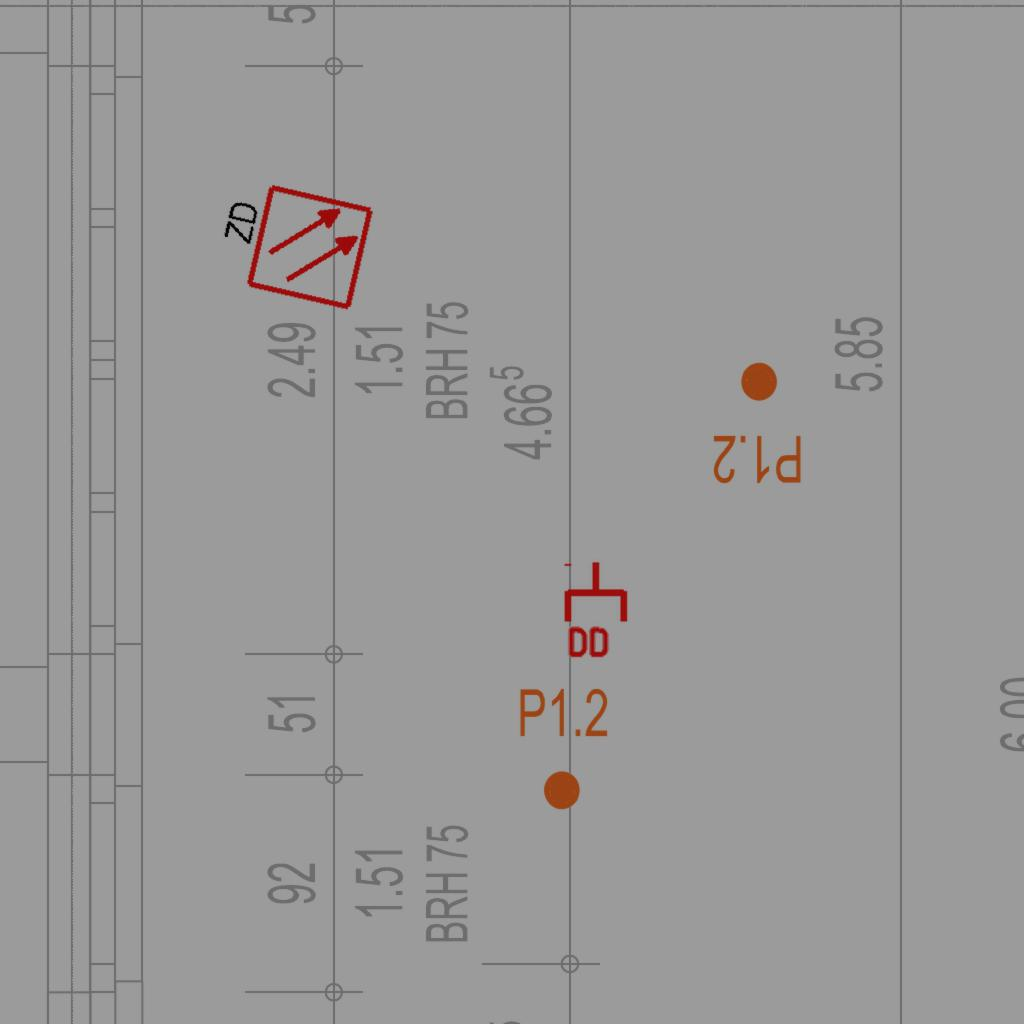Datenanschluss_zweifach: (563, 559, 632, 662)
Downlight_LED_Einbauleuchten_Flur: (517, 685, 610, 813), (711, 359, 804, 487)
ZD_Melder_in_Zwischendecke_mit_Revisionsoeffnung_mind_40_x_40_cm: (205, 172, 377, 317)
